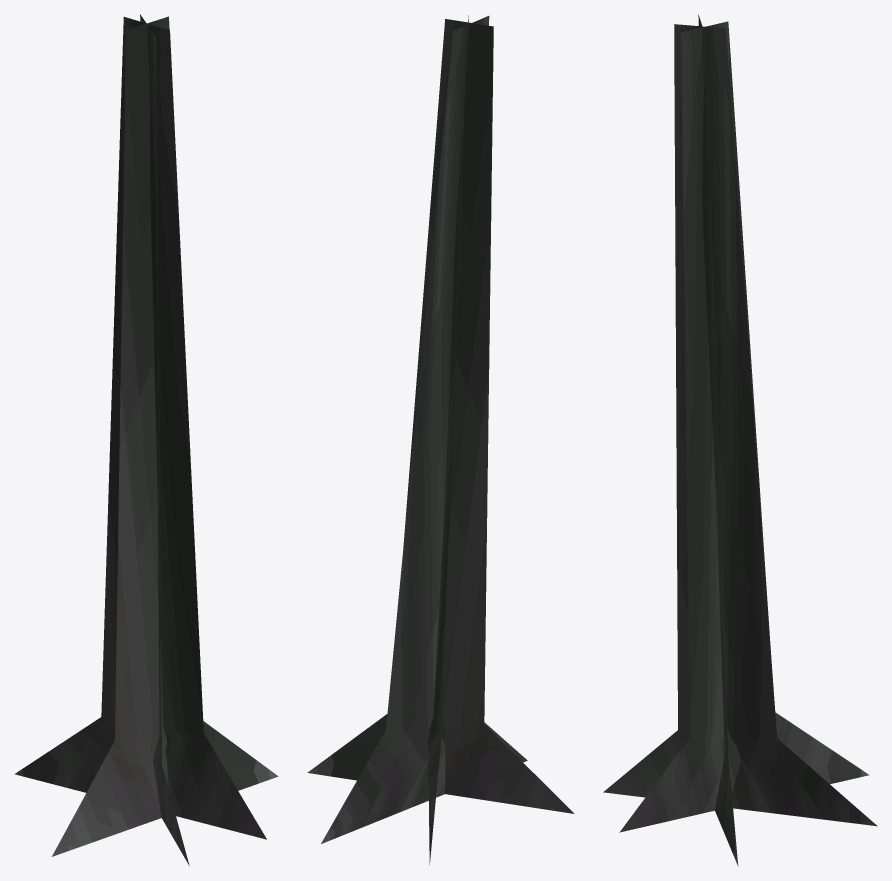
File: INST_HTOWN_APPLETREE_LOD3.fbx
3 views of the same model, side by side, from view 1: azimuth 30°, elevation 25°; view 2: azimuth 150°, elevation 25°; view 3: azimuth 270°, elevation 25° (orthographic). The views are drawn at different scales.
Parts seen in each view (by area): view 1: INST_HTOWN_APPLETREE_LOD3; view 2: INST_HTOWN_APPLETREE_LOD3; view 3: INST_HTOWN_APPLETREE_LOD3.
Part boxes in pixels (x1,y1,x2,y2): INST_HTOWN_APPLETREE_LOD3: [14, 14, 278, 866]; INST_HTOWN_APPLETREE_LOD3: [307, 15, 574, 865]; INST_HTOWN_APPLETREE_LOD3: [603, 14, 877, 866].
Bounding box in the file's own units: 11803 × 35857 × 11577.
1 material, 1 textured.
